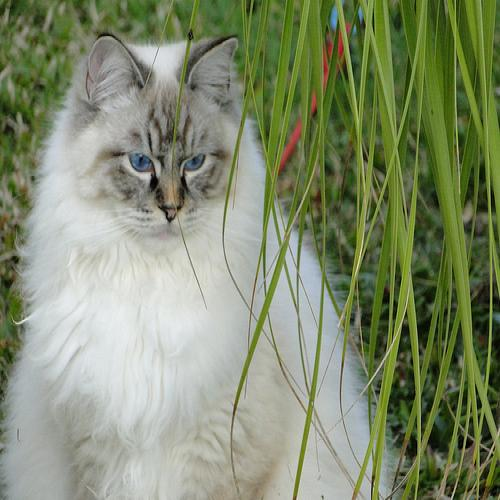ragdoll: (74, 22, 250, 250)
